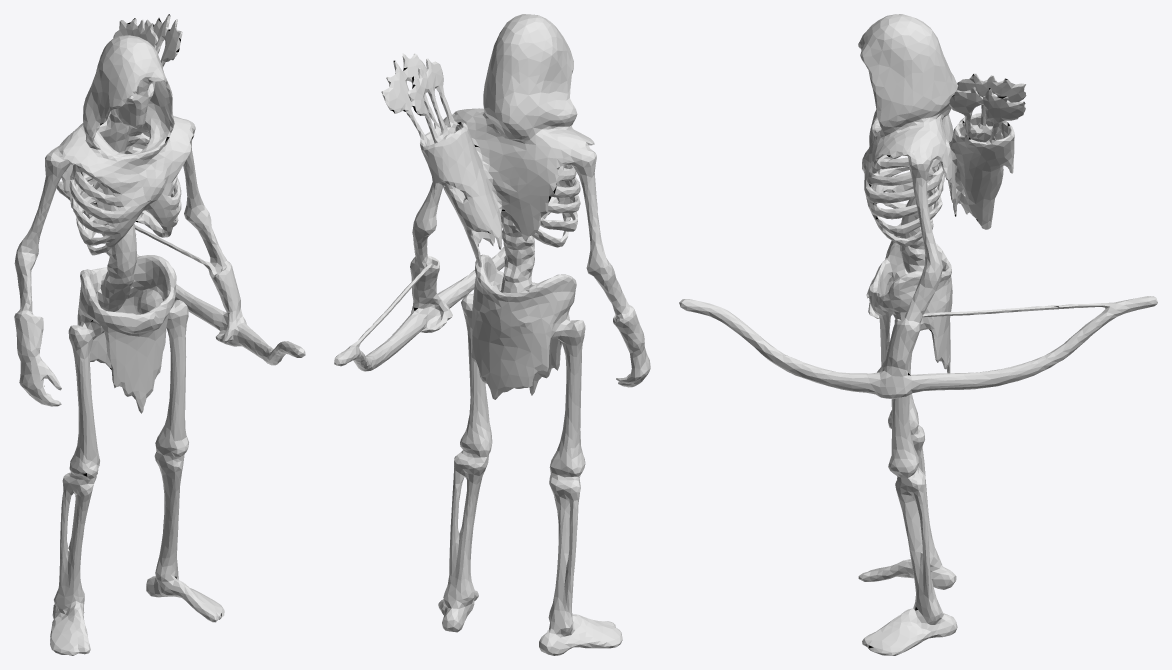
The model's file is enemy_skel_ranged.glb.
The picture shows the model from 3 angles, left to right: view 1: azimuth 30°, elevation 25°; view 2: azimuth 150°, elevation 25°; view 3: azimuth 270°, elevation 25°; orthographic projection. The views are drawn at different scales.
Visible parts, largest first — view 1: Low; view 2: Low; view 3: Low.
Part boxes in pixels (bbox=[...]): Low: bbox=[14, 14, 305, 655]; Low: bbox=[334, 14, 650, 655]; Low: bbox=[679, 14, 1157, 655].
Bounding box in the file's own units: 0.7885 × 1.98 × 1.44.
1 material, 1 textured.
